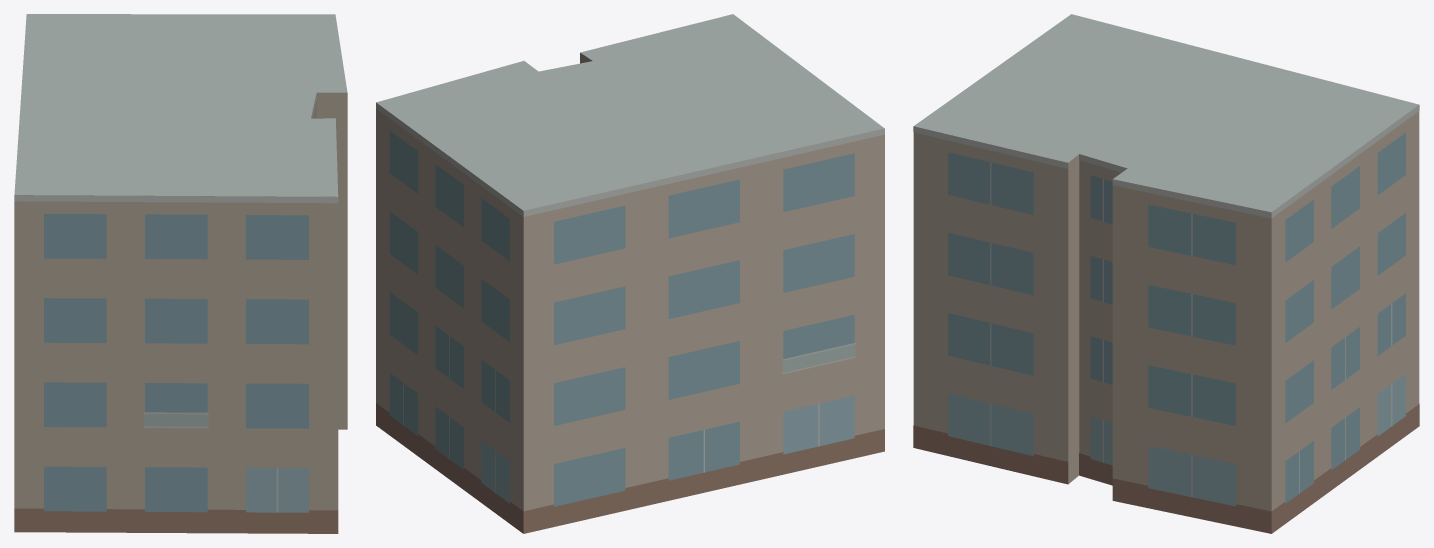
Rendered from survey-upis-32722097.glb.
3 views of the same model, side by side, from view 1: azimuth 30°, elevation 25°; view 2: azimuth 150°, elevation 25°; view 3: azimuth 270°, elevation 25° (orthographic). The views are drawn at different scales.
Visible parts, largest first — view 1: survey-upis-32722097.tmp; view 2: survey-upis-32722097.tmp; view 3: survey-upis-32722097.tmp.
Boxes of the visible parts, x1,y1,x2,y2 form: survey-upis-32722097.tmp: (14,14,347,533); survey-upis-32722097.tmp: (376,14,884,533); survey-upis-32722097.tmp: (913,14,1419,533).
Bounding box in the file's own units: 16.94 × 12.8 × 18.26.
